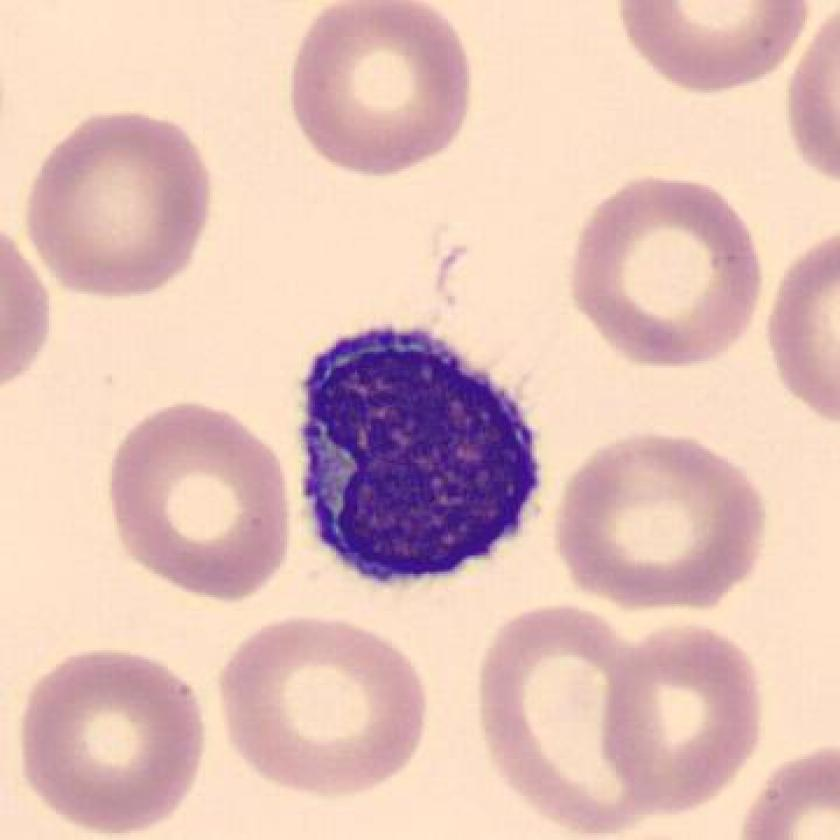lymphocyte: (283, 306, 561, 612)
